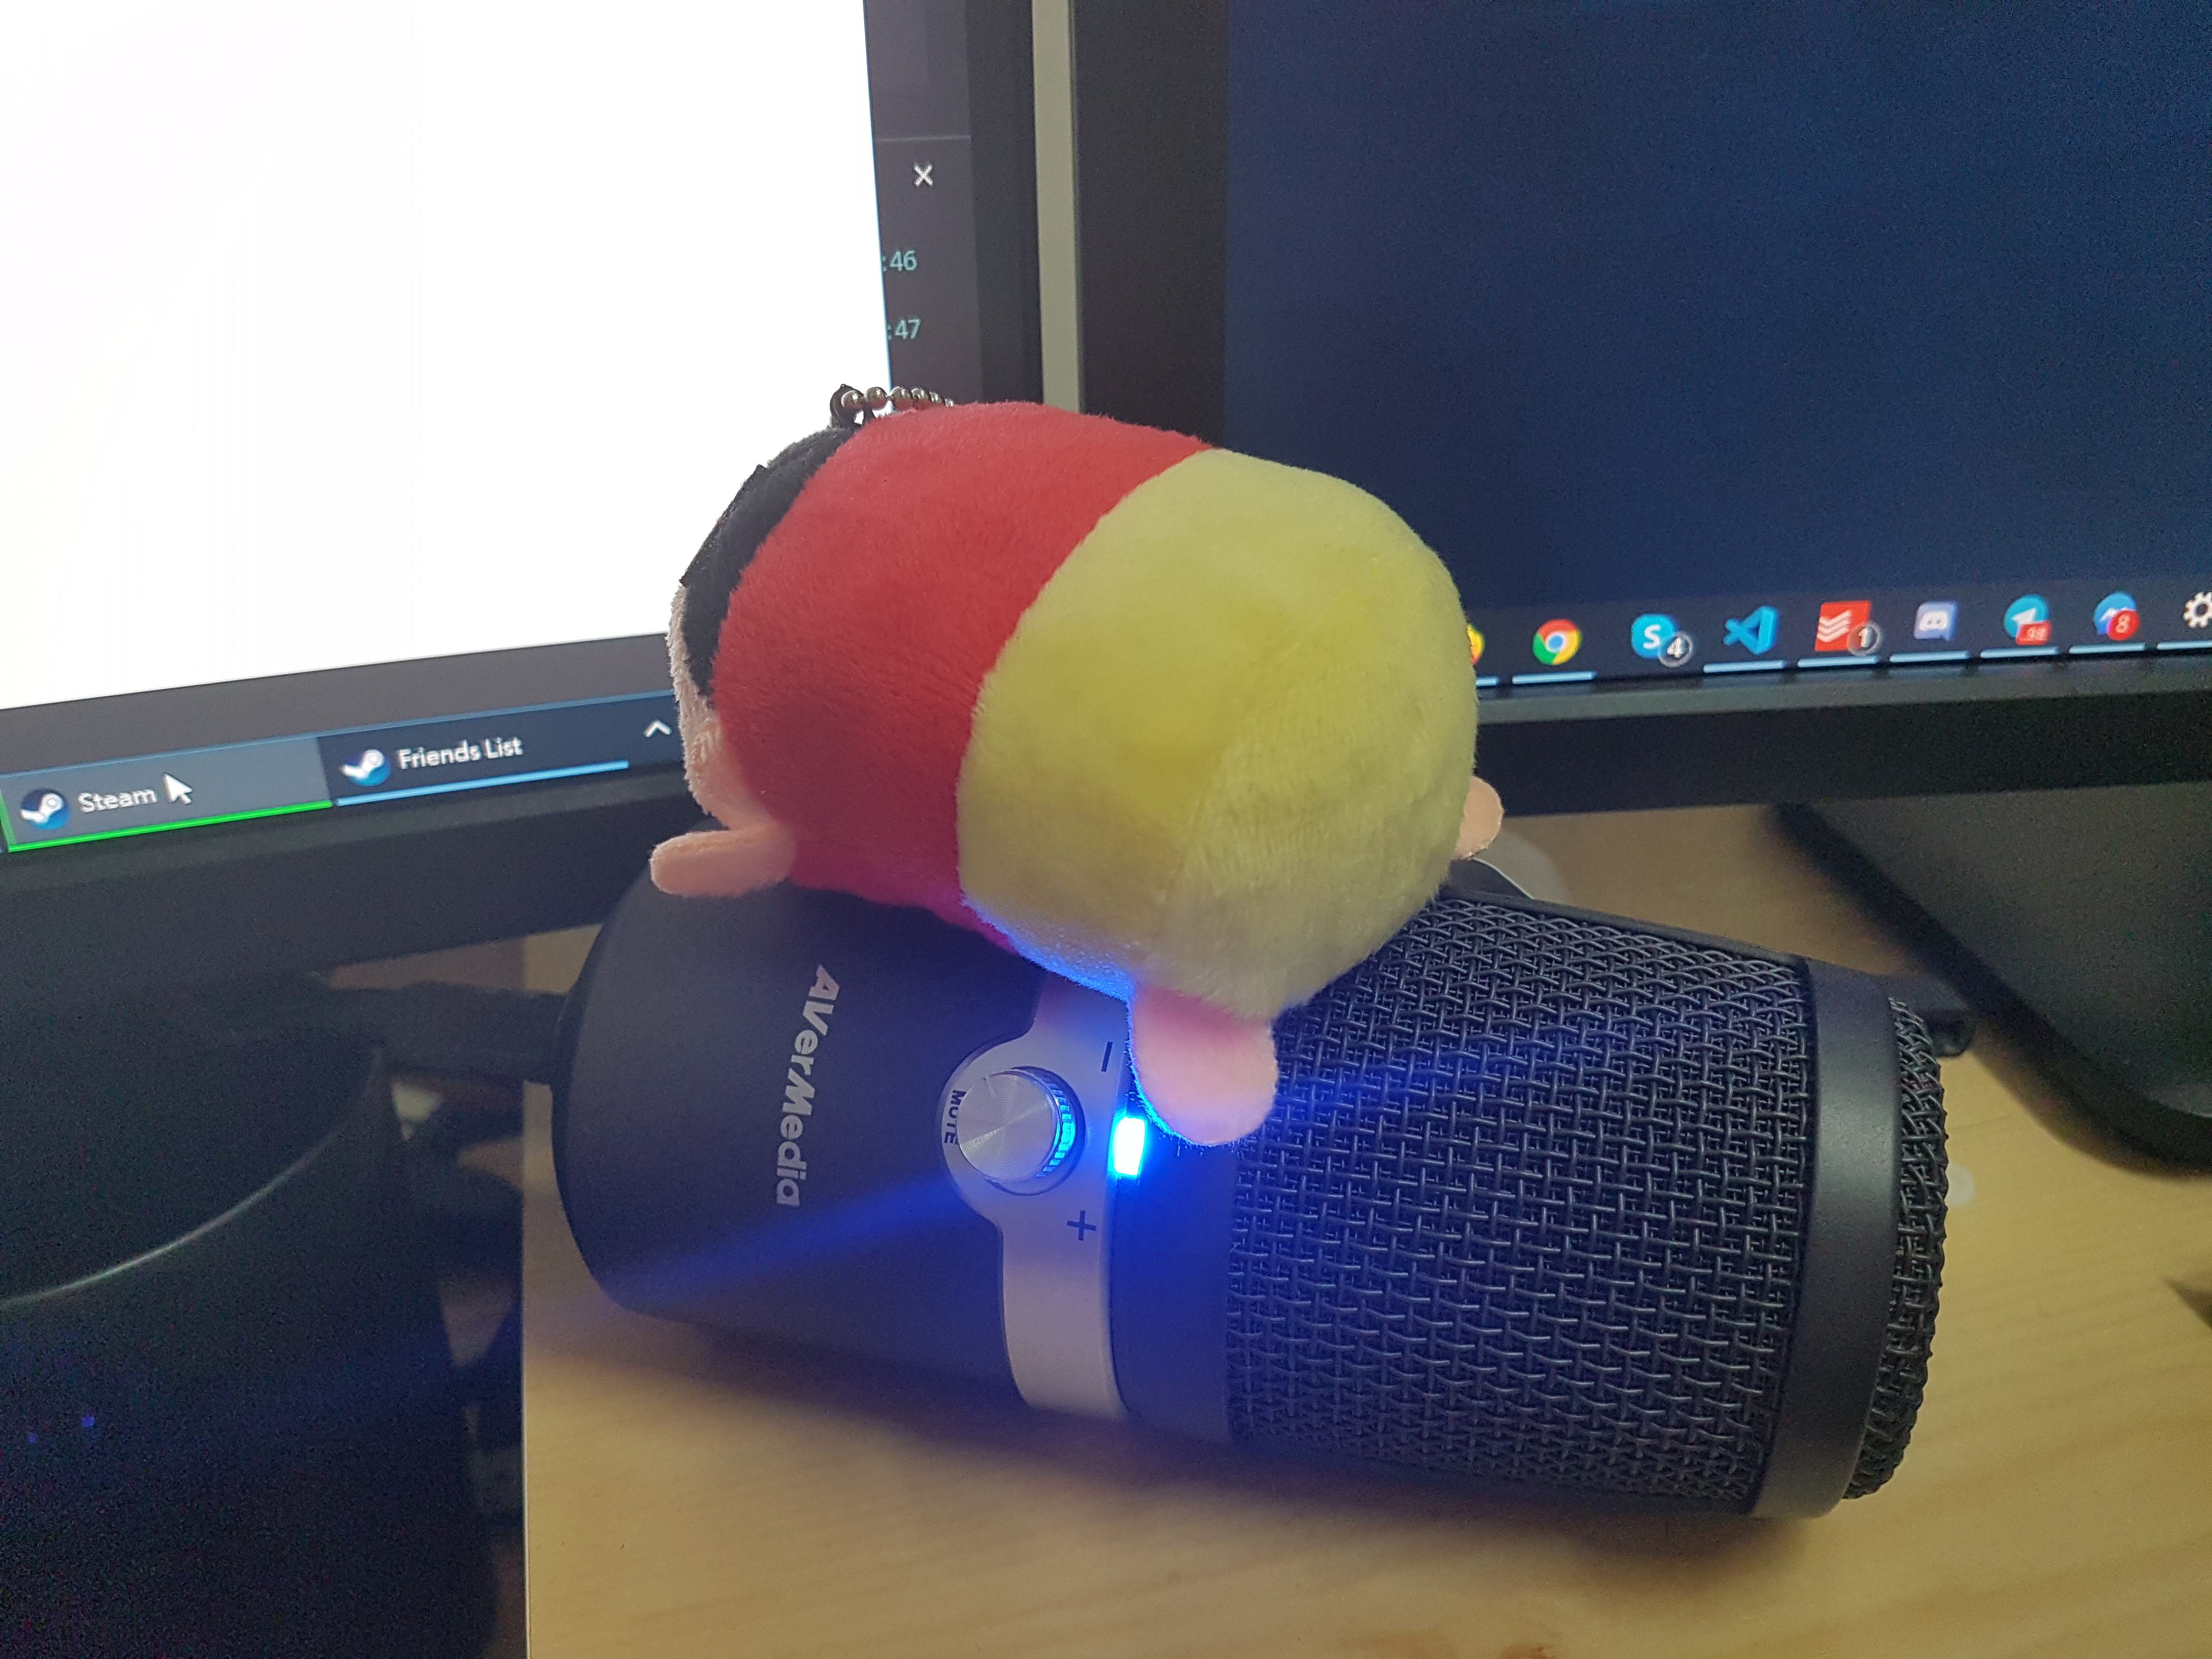stuffed toy: (650, 382, 1496, 1143)
